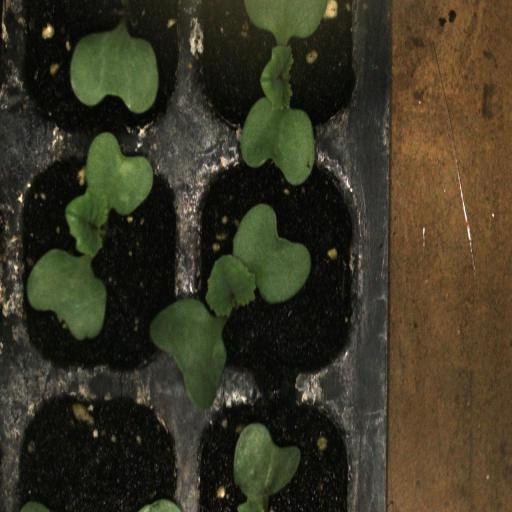Folha: (70, 24, 159, 114), (233, 423, 301, 512)
Germinacao: (13, 140, 190, 384), (191, 144, 364, 391), (192, 0, 365, 143)
